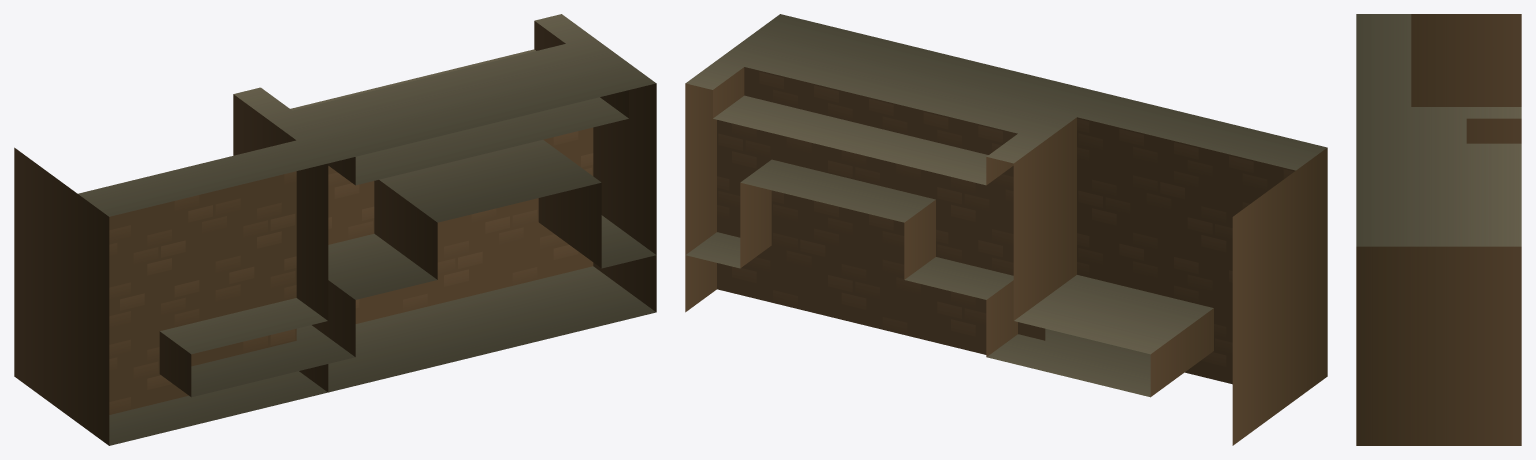
Rendered from SM_GunRoom3.fbx.
3 views of the same model, side by side, from view 1: azimuth 30°, elevation 25°; view 2: azimuth 150°, elevation 25°; view 3: azimuth 270°, elevation 25° (orthographic). The views are drawn at different scales.
Parts seen in each view (by area): view 1: SM_GunRoom3; view 2: SM_GunRoom3; view 3: SM_GunRoom3.
Boxes of the visible parts, x1=… form: SM_GunRoom3: x1=14, y1=14, x2=656, y2=445; SM_GunRoom3: x1=685, y1=14, x2=1327, y2=445; SM_GunRoom3: x1=1356, y1=14, x2=1521, y2=445.
Bounding box in the file's own units: 2000 × 600 × 800.
